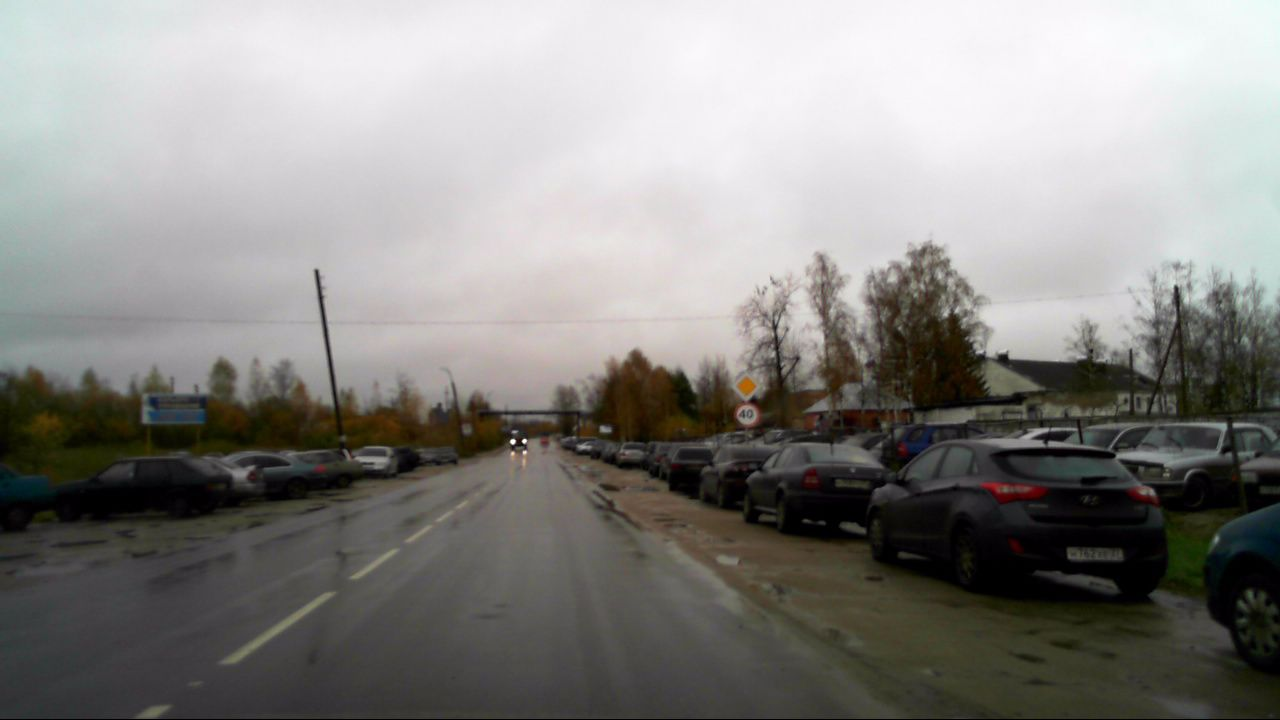speed_warning_40: (734, 401, 761, 429)
